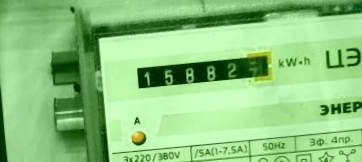1: (142, 69, 152, 86)
2: (225, 60, 237, 78)
5: (163, 67, 174, 84)
7: (248, 65, 258, 77)
8: (204, 63, 216, 81), (184, 66, 195, 83)
screen: (129, 45, 280, 98)
